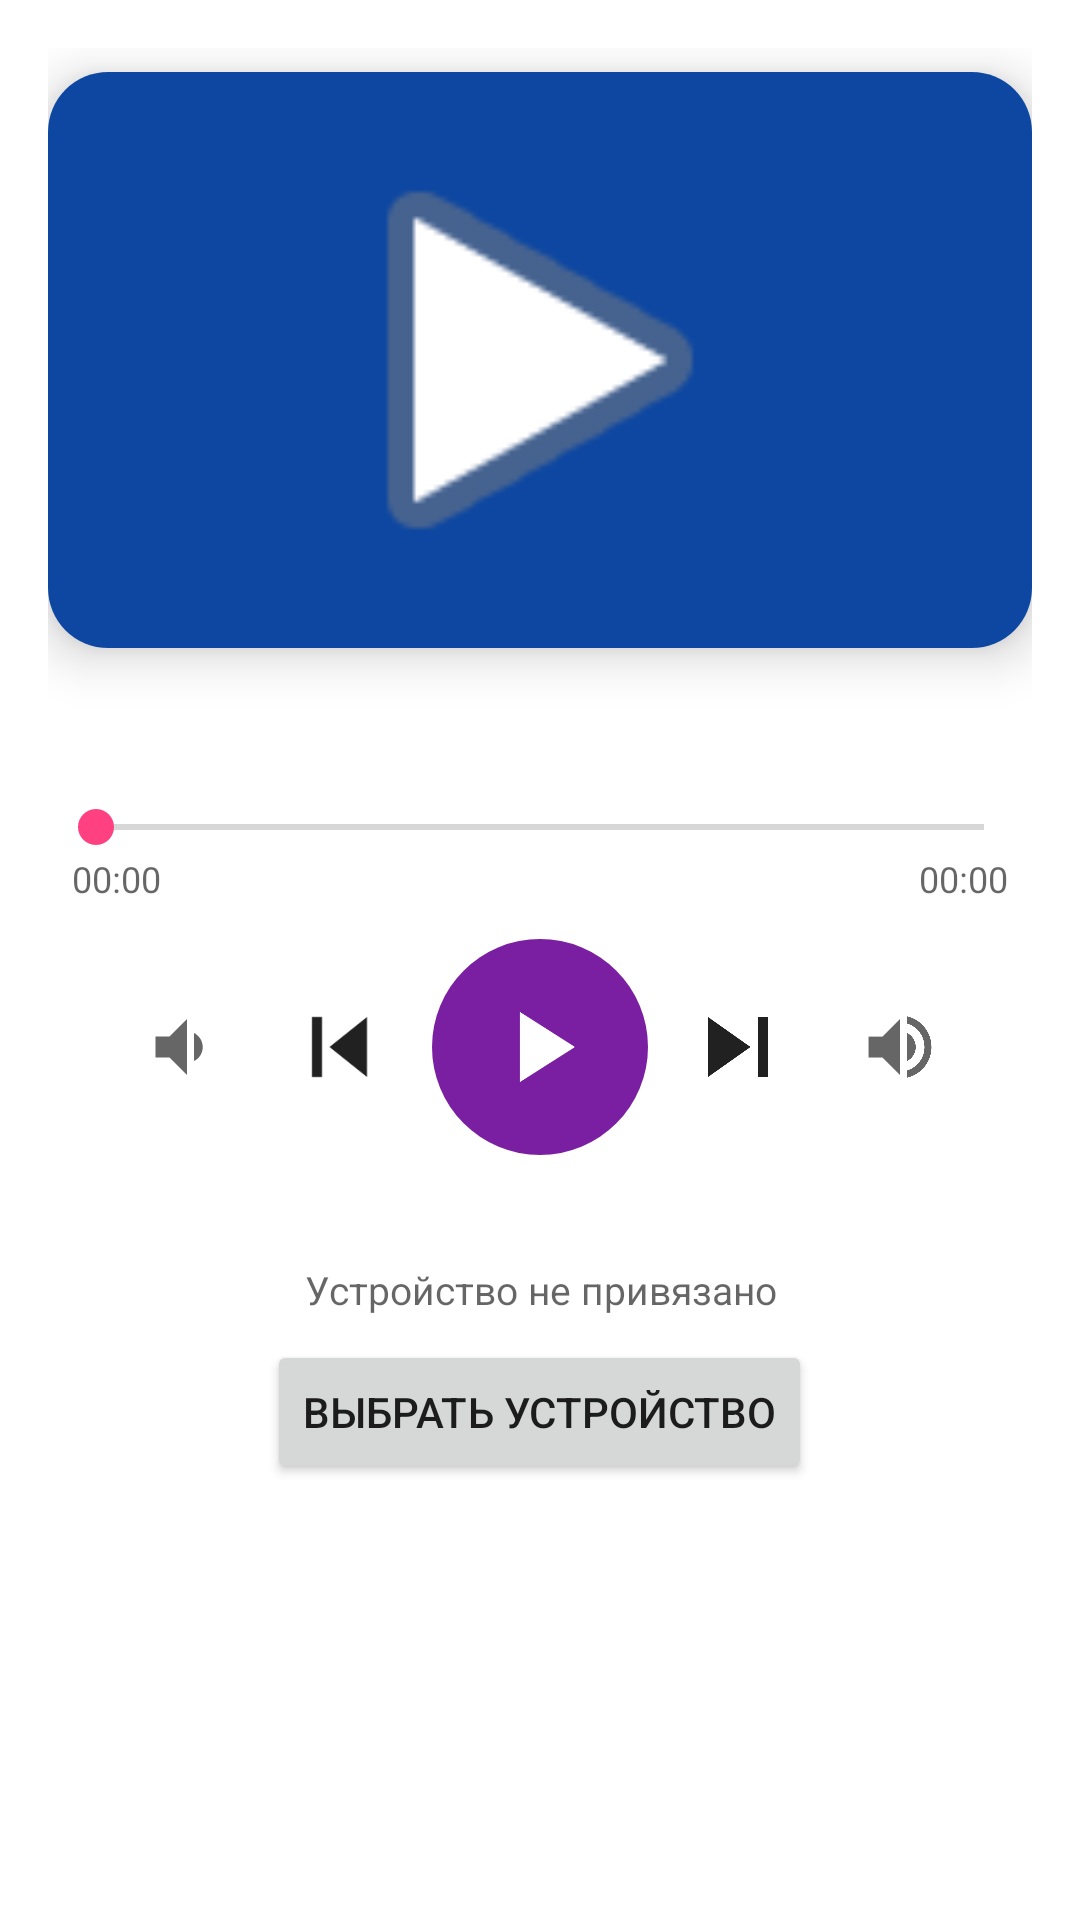

Icon click points for this 1080w x 1920h phone screenshot, format (x,y):
next: (738,1047)
play pause: (540,1047)
prev: (339,1047)
vol down: (179,1047)
vol up: (900,1047)
